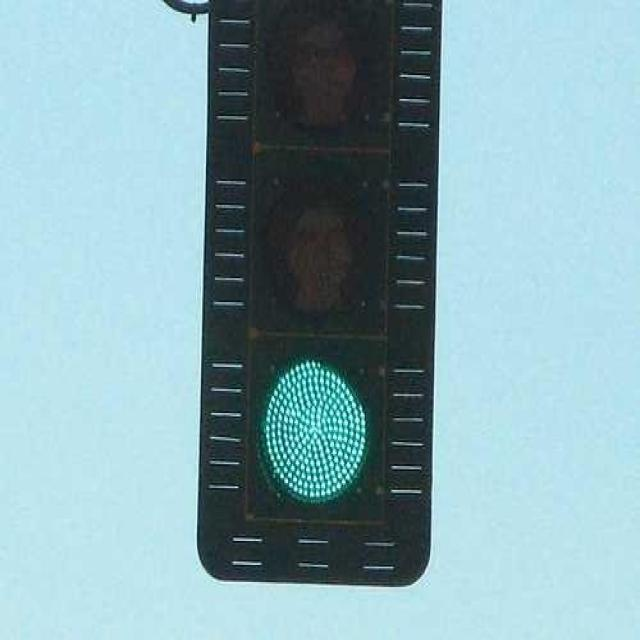Traffic Light -Green-: (243, 7, 399, 510)
